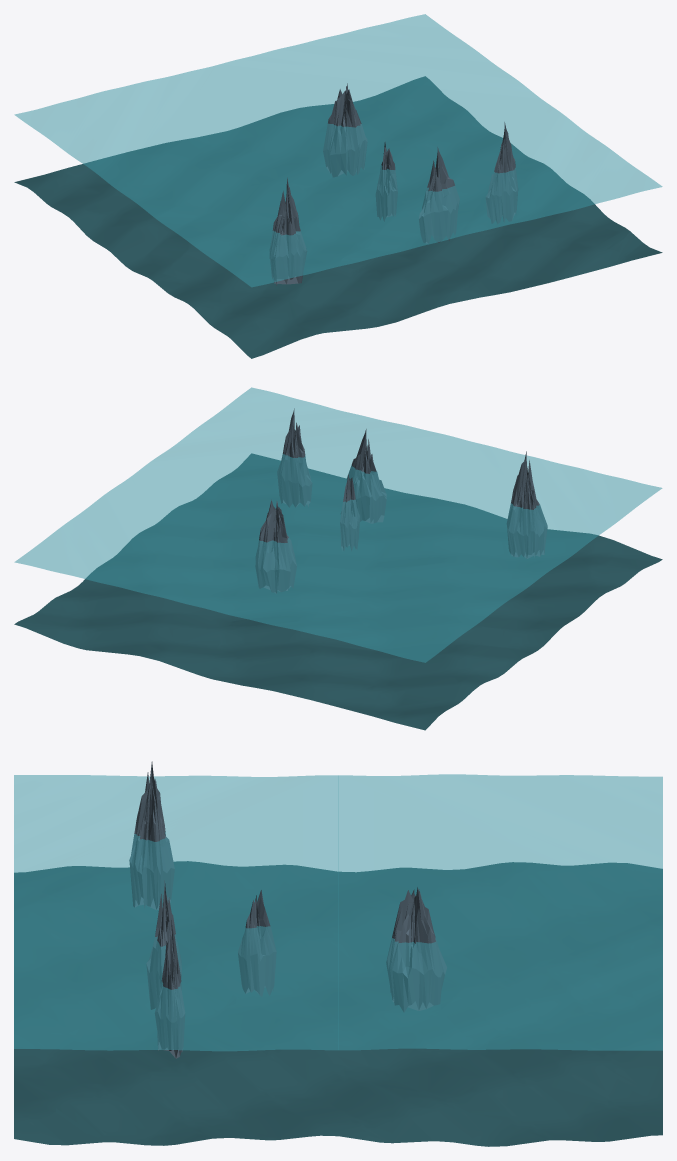
The model's file is water_tile_15.glb.
3 views of the same model, one above another, from view 1: azimuth 30°, elevation 25°; view 2: azimuth 150°, elevation 25°; view 3: azimuth 270°, elevation 25° (orthographic). The views are drawn at different scales.
Parts seen in each view (by area): view 1: glacial water surface 15, submerged mineral riverbed.015, underwater worn boulder.053, underwater worn boulder.052, underwater worn boulder.049, underwater worn boulder.050, underwater worn boulder.051; view 2: glacial water surface 15, submerged mineral riverbed.015, underwater worn boulder.052, underwater worn boulder.053, underwater worn boulder.050, underwater worn boulder.049, underwater worn boulder.051; view 3: glacial water surface 15, submerged mineral riverbed.015, underwater worn boulder.053, underwater worn boulder.052, underwater worn boulder.051, underwater worn boulder.050, underwater worn boulder.049.
Boxes of the visible parts, <box> form: glacial water surface 15: <box>14,14,662,287</box>; submerged mineral riverbed.015: <box>14,76,662,358</box>; underwater worn boulder.053: <box>323,83,367,177</box>; underwater worn boulder.052: <box>269,177,307,285</box>; underwater worn boulder.049: <box>418,147,459,243</box>; underwater worn boulder.050: <box>485,122,518,223</box>; underwater worn boulder.051: <box>375,141,397,221</box>; glacial water surface 15: <box>14,387,662,662</box>; submerged mineral riverbed.015: <box>14,453,662,730</box>; underwater worn boulder.052: <box>506,451,547,558</box>; underwater worn boulder.053: <box>255,499,296,593</box>; underwater worn boulder.050: <box>277,408,312,507</box>; underwater worn boulder.049: <box>346,429,386,523</box>; underwater worn boulder.051: <box>340,474,359,551</box>; glacial water surface 15: <box>14,774,662,1051</box>; submerged mineral riverbed.015: <box>14,861,662,1146</box>; underwater worn boulder.053: <box>386,887,446,1012</box>; underwater worn boulder.052: <box>129,761,174,909</box>; underwater worn boulder.051: <box>238,890,276,996</box>; underwater worn boulder.050: <box>155,917,185,1058</box>; underwater worn boulder.049: <box>146,880,181,1009</box>.
Bounding box in the file's own units: 1 × 0.2904 × 1.
